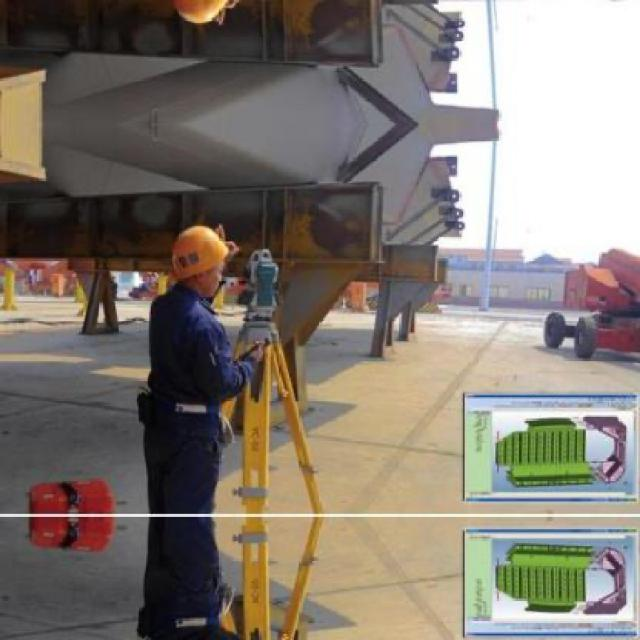helmet: (166, 220, 234, 295), (164, 0, 233, 28)
